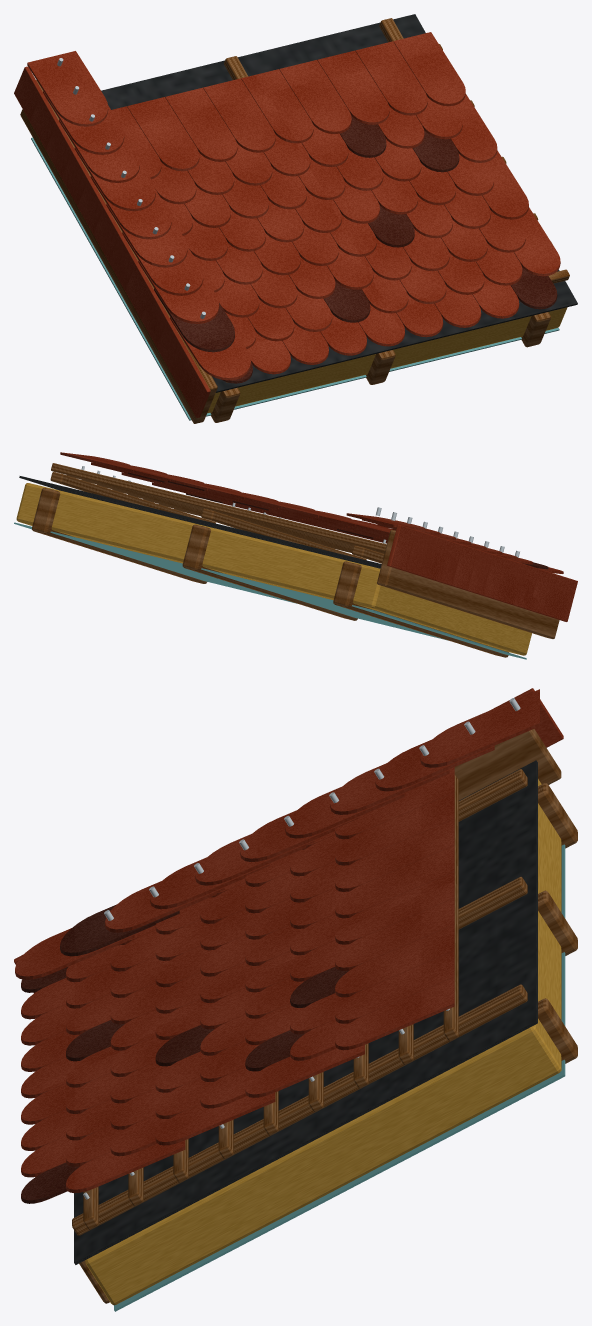
Rendered from modell.glb.
3 views of the same model, one above another, from view 1: azimuth 30°, elevation 25°; view 2: azimuth 150°, elevation 25°; view 3: azimuth 270°, elevation 25° (orthographic). The views are drawn at different scales.
Visible parts, largest first — view 1: s04-deckziegel_deckung.001, s04-randziegel_deckung, s04-abschluss_deckung, s04-zusatzebene_zusatzebene, s04-deckziegel_deckung, s04-daemmung_daemmung, s04-abschluss_tragwerk, s04-sparren_tragwerk, s04-luftdichtheit_luftdichtheit, s04-randziegel_deckung.001, s04-lattung_lattung; view 2: s04-daemmung_daemmung, s04-abschluss_deckung, s04-lattung_lattung, s04-sparren_tragwerk, s04-deckziegel_deckung.001, s04-abschluss_tragwerk, s04-luftdichtheit_luftdichtheit, s04-zusatzebene_zusatzebene, s04-randziegel_deckung, s04-deckziegel_deckung, s04-befestigung_deckung; view 3: s04-deckziegel_deckung.001, s04-zusatzebene_zusatzebene, s04-daemmung_daemmung, s04-randziegel_deckung, s04-lattung_lattung, s04-deckziegel_deckung, s04-luftdichtheit_luftdichtheit, s04-sparren_tragwerk, s04-abschluss_tragwerk, s04-randziegel_deckung.001, s04-abschluss_deckung.
Part boxes in pixels (bbox=[...]): s04-deckziegel_deckung.001: bbox=[111, 32, 560, 374]; s04-randziegel_deckung: bbox=[27, 51, 250, 380]; s04-abschluss_deckung: bbox=[14, 66, 210, 417]; s04-zusatzebene_zusatzebene: bbox=[101, 14, 577, 392]; s04-deckziegel_deckung: bbox=[222, 115, 557, 383]; s04-daemmung_daemmung: bbox=[207, 307, 567, 413]; s04-abschluss_tragwerk: bbox=[20, 80, 217, 423]; s04-sparren_tragwerk: bbox=[210, 312, 550, 422]; s04-luftdichtheit_luftdichtheit: bbox=[31, 137, 559, 420]; s04-randziegel_deckung.001: bbox=[154, 288, 234, 352]; s04-lattung_lattung: bbox=[224, 18, 569, 382]; s04-daemmung_daemmung: bbox=[16, 483, 531, 655]; s04-abschluss_deckung: bbox=[387, 524, 577, 621]; s04-lattung_lattung: bbox=[50, 463, 386, 563]; s04-sparren_tragwerk: bbox=[32, 488, 508, 657]; s04-deckziegel_deckung.001: bbox=[60, 452, 392, 543]; s04-abschluss_tragwerk: bbox=[377, 530, 559, 638]; s04-luftdichtheit_luftdichtheit: bbox=[14, 522, 526, 659]; s04-zusatzebene_zusatzebene: bbox=[19, 476, 381, 568]; s04-randziegel_deckung: bbox=[346, 513, 563, 573]; s04-deckziegel_deckung: bbox=[127, 472, 373, 538]; s04-befestigung_deckung: bbox=[376, 507, 519, 557]; s04-deckziegel_deckung.001: bbox=[21, 767, 454, 1193]; s04-zusatzebene_zusatzebene: bbox=[74, 760, 537, 1264]; s04-daemmung_daemmung: bbox=[85, 779, 561, 1305]; s04-randziegel_deckung: bbox=[15, 689, 539, 979]; s04-lattung_lattung: bbox=[72, 769, 527, 1235]; s04-deckziegel_deckung: bbox=[21, 967, 348, 1203]; s04-luftdichtheit_luftdichtheit: bbox=[114, 844, 565, 1311]; s04-sparren_tragwerk: bbox=[79, 783, 577, 1303]; s04-abschluss_tragwerk: bbox=[454, 729, 561, 800]; s04-randziegel_deckung.001: bbox=[60, 904, 179, 956]; s04-abschluss_deckung: bbox=[14, 688, 563, 993].
Size of the model in its own units: 1.85 by 1.19 by 1.63.
7 materials, 5 textured.
